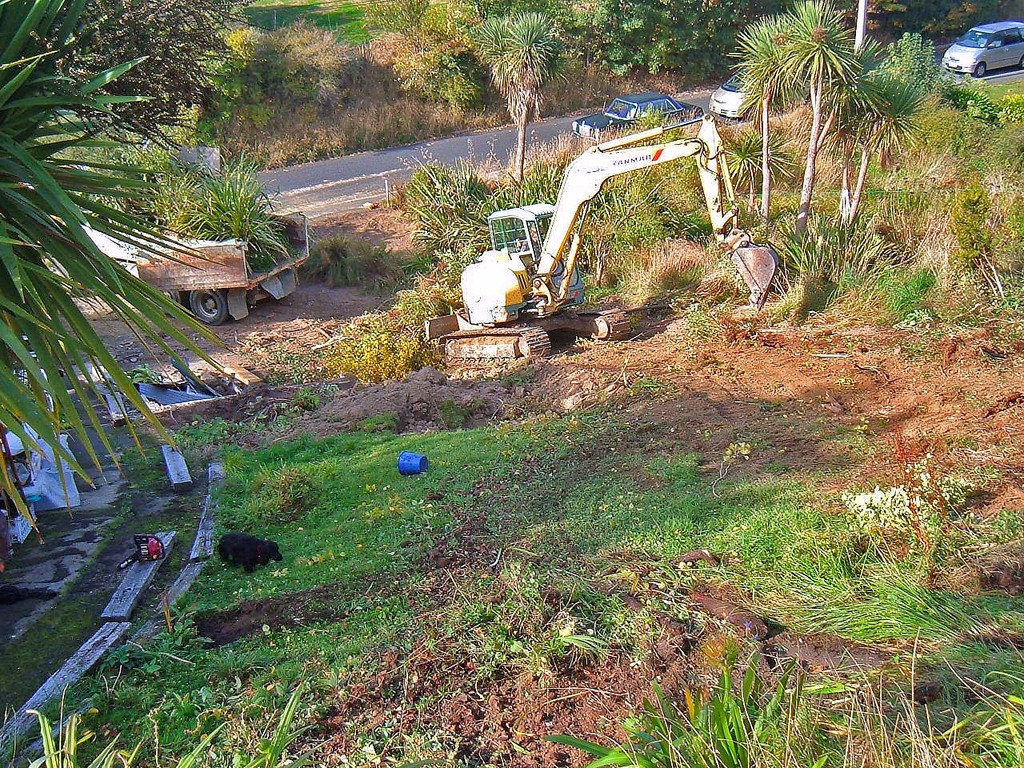Tree: (0, 0, 236, 538), (0, 0, 242, 147), (828, 16, 918, 264), (470, 0, 538, 194), (736, 2, 783, 228), (583, 0, 718, 71), (791, 0, 828, 224)
